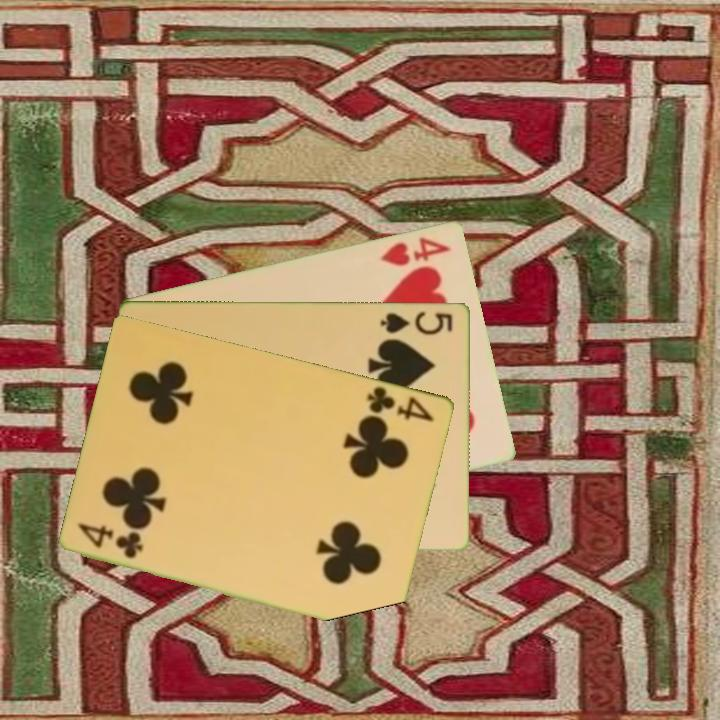4c: (364, 382, 437, 425), (74, 519, 147, 562)
4h: (377, 233, 454, 269)
5s: (377, 308, 455, 337)
